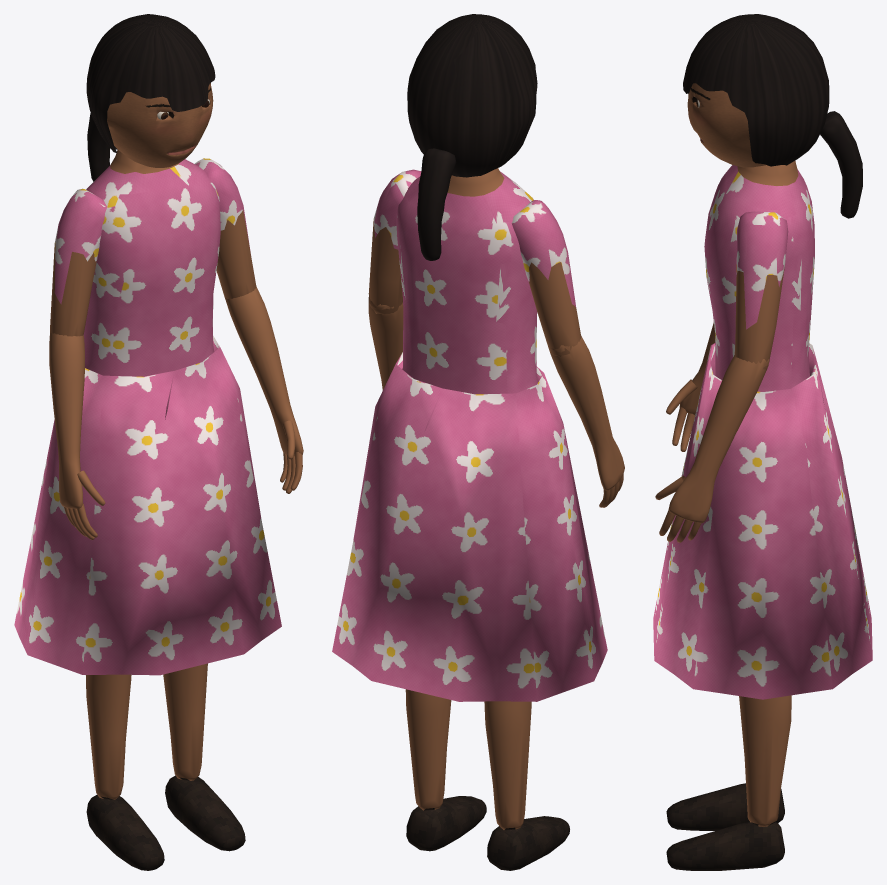
Rendered from persona_nina_a_medio.obj.
The picture shows the model from 3 angles, left to right: view 1: azimuth 30°, elevation 25°; view 2: azimuth 150°, elevation 25°; view 3: azimuth 270°, elevation 25°; orthographic projection. The views are drawn at different scales.
Visible parts, largest first — view 1: Falda, Torso, Pelo, PiernaDer, PiernaIzq, BrazoDer, AntebrazoDer, Cabeza, AntebrazoIzq, BrazoIzq; view 2: Falda, Torso, Pelo, PiernaDer, PiernaIzq, BrazoDer, AntebrazoDer, BrazoIzq, AntebrazoIzq; view 3: Falda, Pelo, Torso, PiernaIzq, AntebrazoIzq, BrazoIzq, Cabeza, PiernaDer, AntebrazoDer.
Boxes of the visible parts, x1,y1,x2,y2 form: Falda: (14,335,281,675); Torso: (83,149,220,376); Pelo: (86,14,215,181); PiernaDer: (86,674,164,870); PiernaIzq: (163,663,245,851); BrazoDer: (50,188,106,336); AntebrazoDer: (49,331,105,539); Cabeza: (107,83,213,167); AntebrazoIzq: (225,286,303,493); BrazoIzq: (194,158,256,299); Falda: (332,352,607,701); Torso: (396,168,537,394); Pelo: (407,14,537,260); PiernaDer: (484,701,569,870); PiernaIzq: (405,689,486,851); BrazoDer: (511,200,581,356); AntebrazoDer: (550,336,624,507); BrazoIzq: (368,169,421,314); AntebrazoIzq: (368,294,403,390); Falda: (653,343,872,699); Pelo: (683,14,862,218); Torso: (704,161,814,391); PiernaIzq: (666,695,791,870); AntebrazoIzq: (655,355,769,542); BrazoIzq: (734,211,788,370); Cabeza: (687,83,765,167); PiernaDer: (666,783,784,830); AntebrazoDer: (666,322,715,451).
Bounding box in the file's own units: 0.3569 × 1.15 × 0.2757.
Materials: 10 (10 with a texture image).
